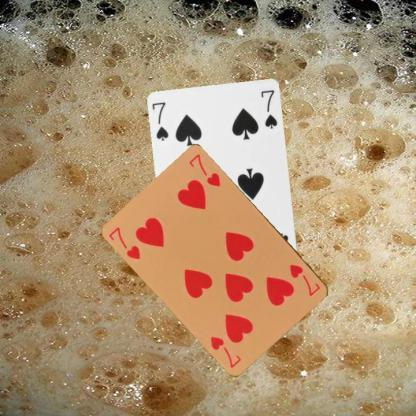7h: (106, 224, 142, 261), (287, 260, 322, 298)
7s: (150, 100, 170, 142)
